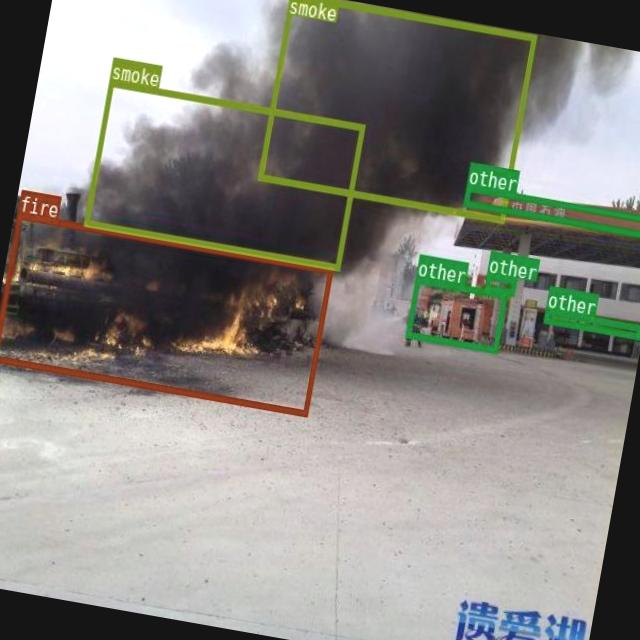fire: (0, 211, 331, 415)
smoke: (257, 0, 536, 222), (83, 78, 364, 269)
